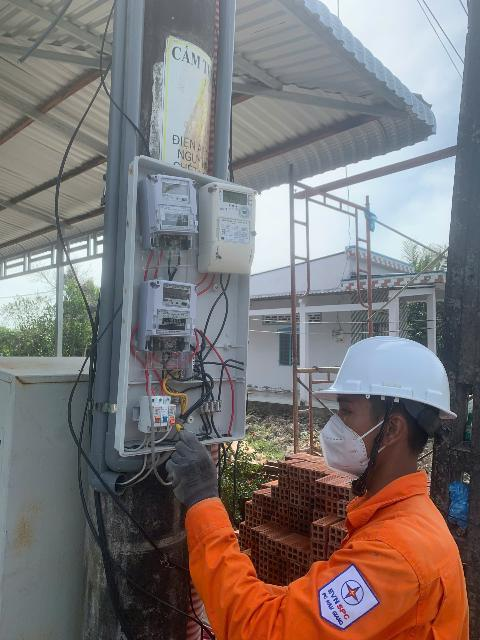gloves: (146, 421, 237, 505)
helmet: (341, 325, 468, 431)
